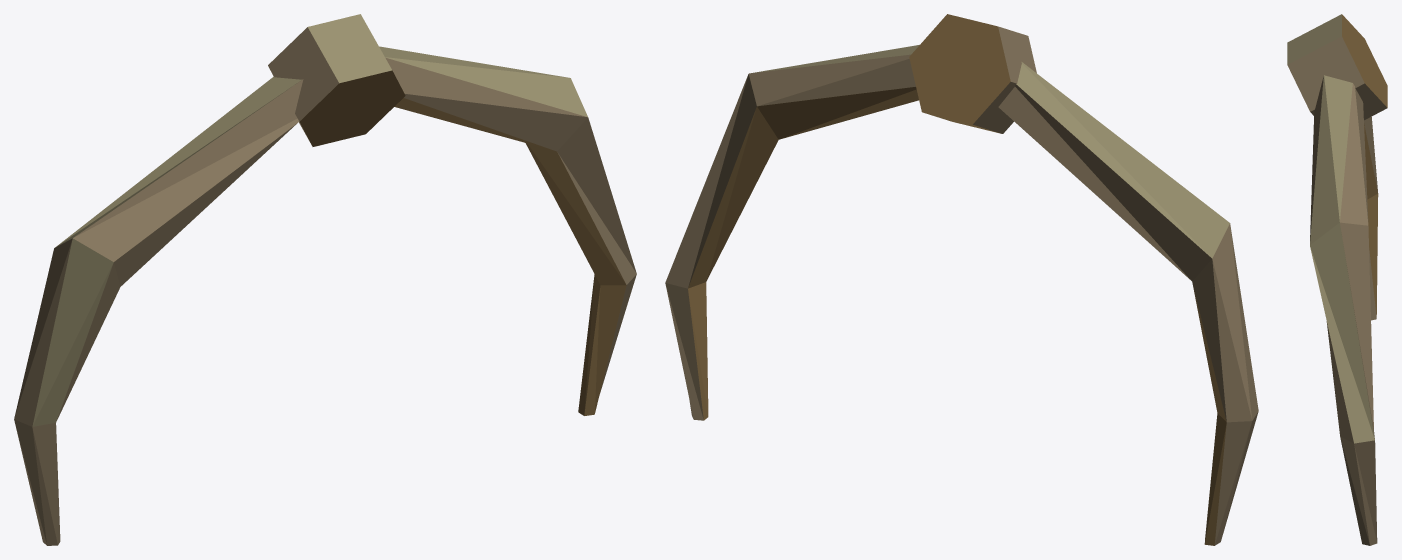
File: TB_D_Env_BoneE_B.FBX
3 views of the same model, side by side, from view 1: azimuth 30°, elevation 25°; view 2: azimuth 150°, elevation 25°; view 3: azimuth 270°, elevation 25° (orthographic). The views are drawn at different scales.
Visible parts, largest first — view 1: TB_D_Env_BoneE_B; view 2: TB_D_Env_BoneE_B; view 3: TB_D_Env_BoneE_B.
Part boxes in pixels (<box>): TB_D_Env_BoneE_B: <box>14,14,636,545</box>; TB_D_Env_BoneE_B: <box>665,14,1258,545</box>; TB_D_Env_BoneE_B: <box>1287,14,1387,545</box>.
Bounding box in the file's own units: 3.63 × 2.65 × 0.5951.
